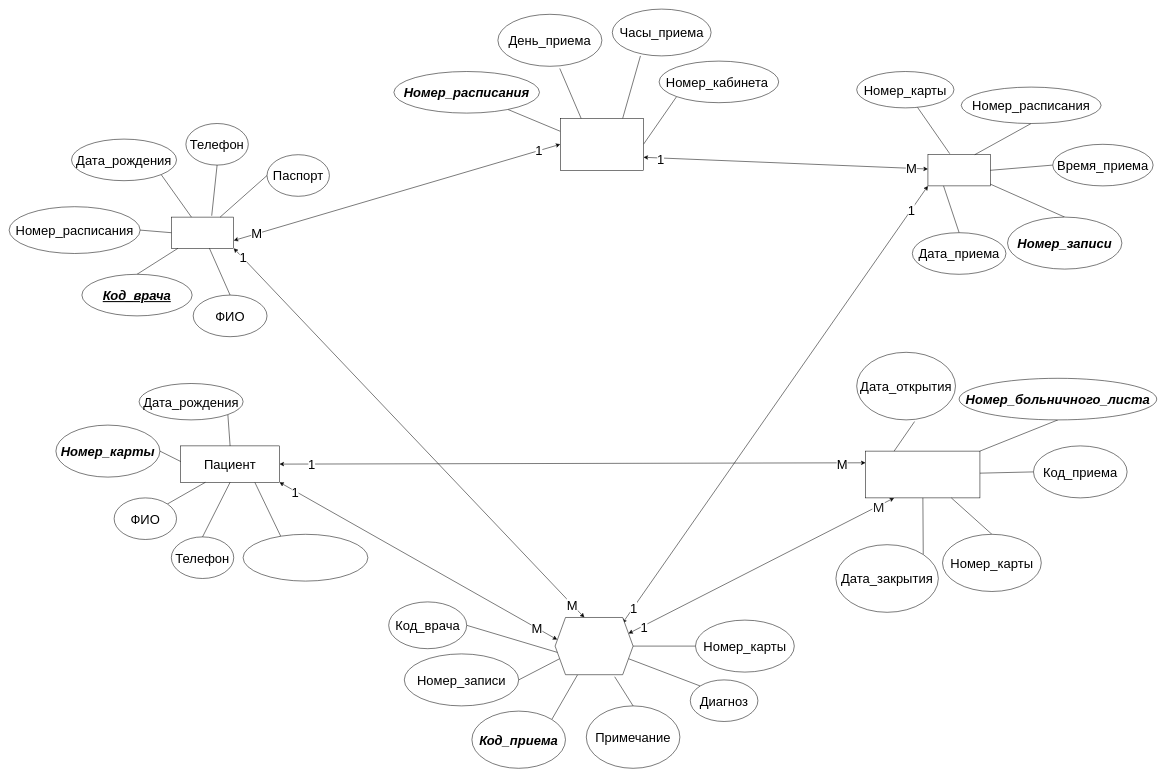
Some shapes in this 1166 by 777 pixel diagram are drawn without their labels. The centre of each missing label's shape, as x and y in pixels:
"Больничный_лист" goes at point (922, 474).
"Врач" goes at point (202, 232).
"Запись" goes at point (958, 170).
"Прием" goes at point (594, 646).
"Расписание" goes at point (602, 144).
"Страховой_полис" goes at point (305, 557).
